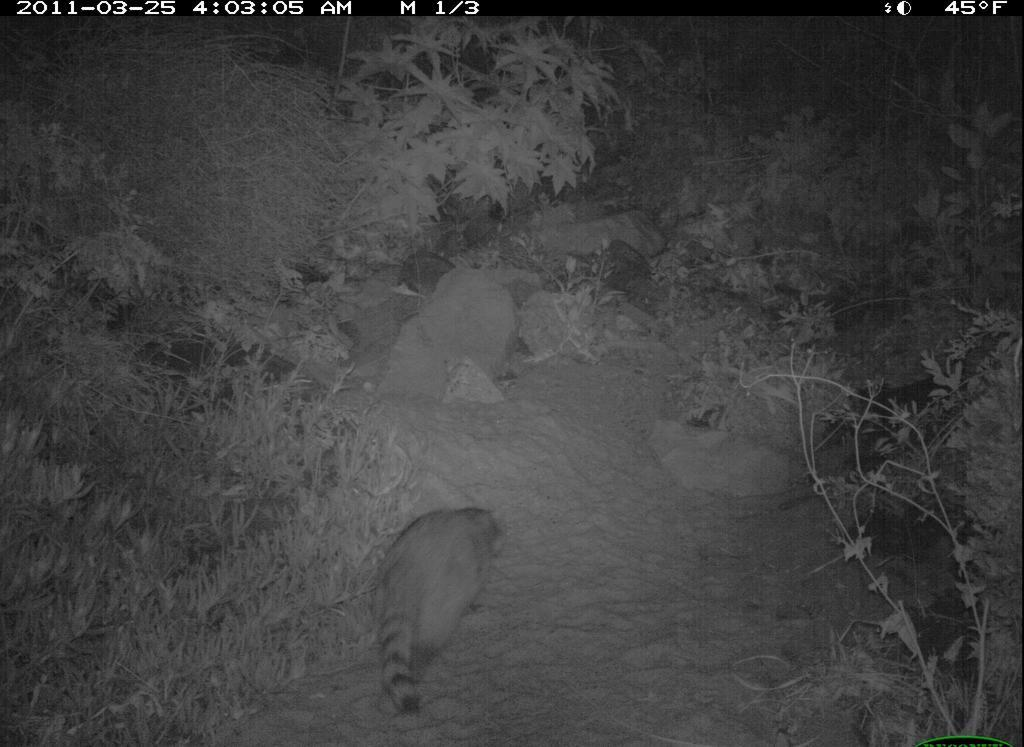raccoon: (349, 465, 514, 705)
